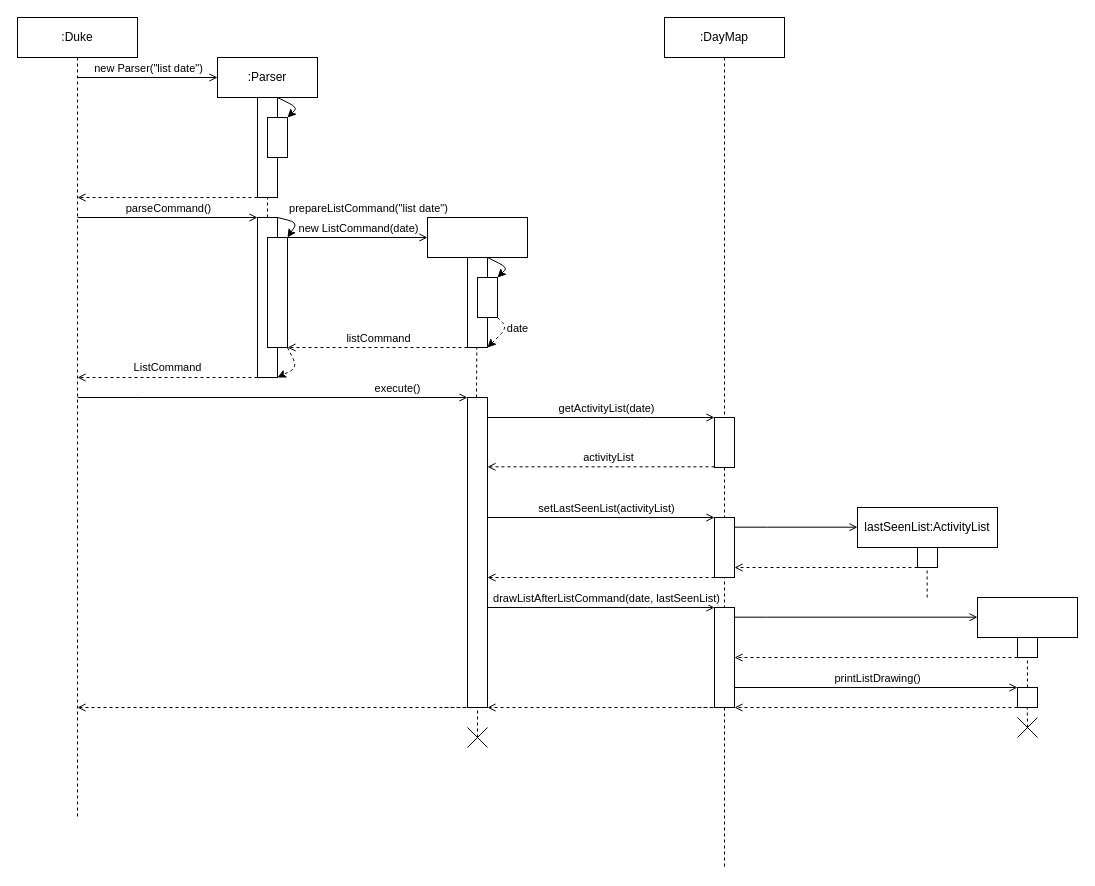
Some shapes in this 1095 by 886 pixel diagram are drawn without their labels. The centre of each missing label's shape, as x and y in pixels:
:ListCommand: (477,237)
:listDrawer: (1027,617)
